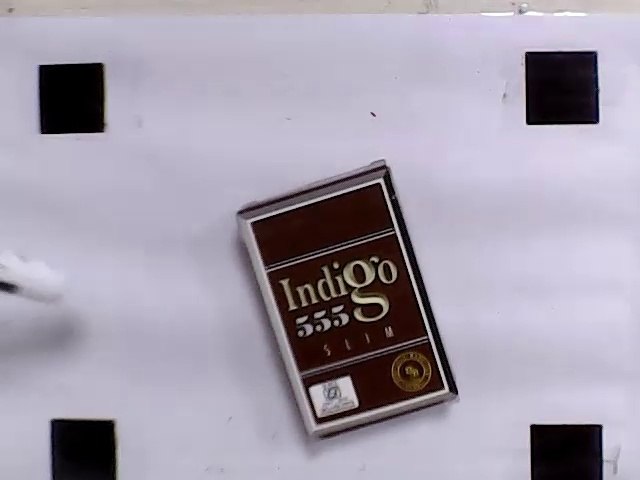BEX: (249, 179, 448, 425)
